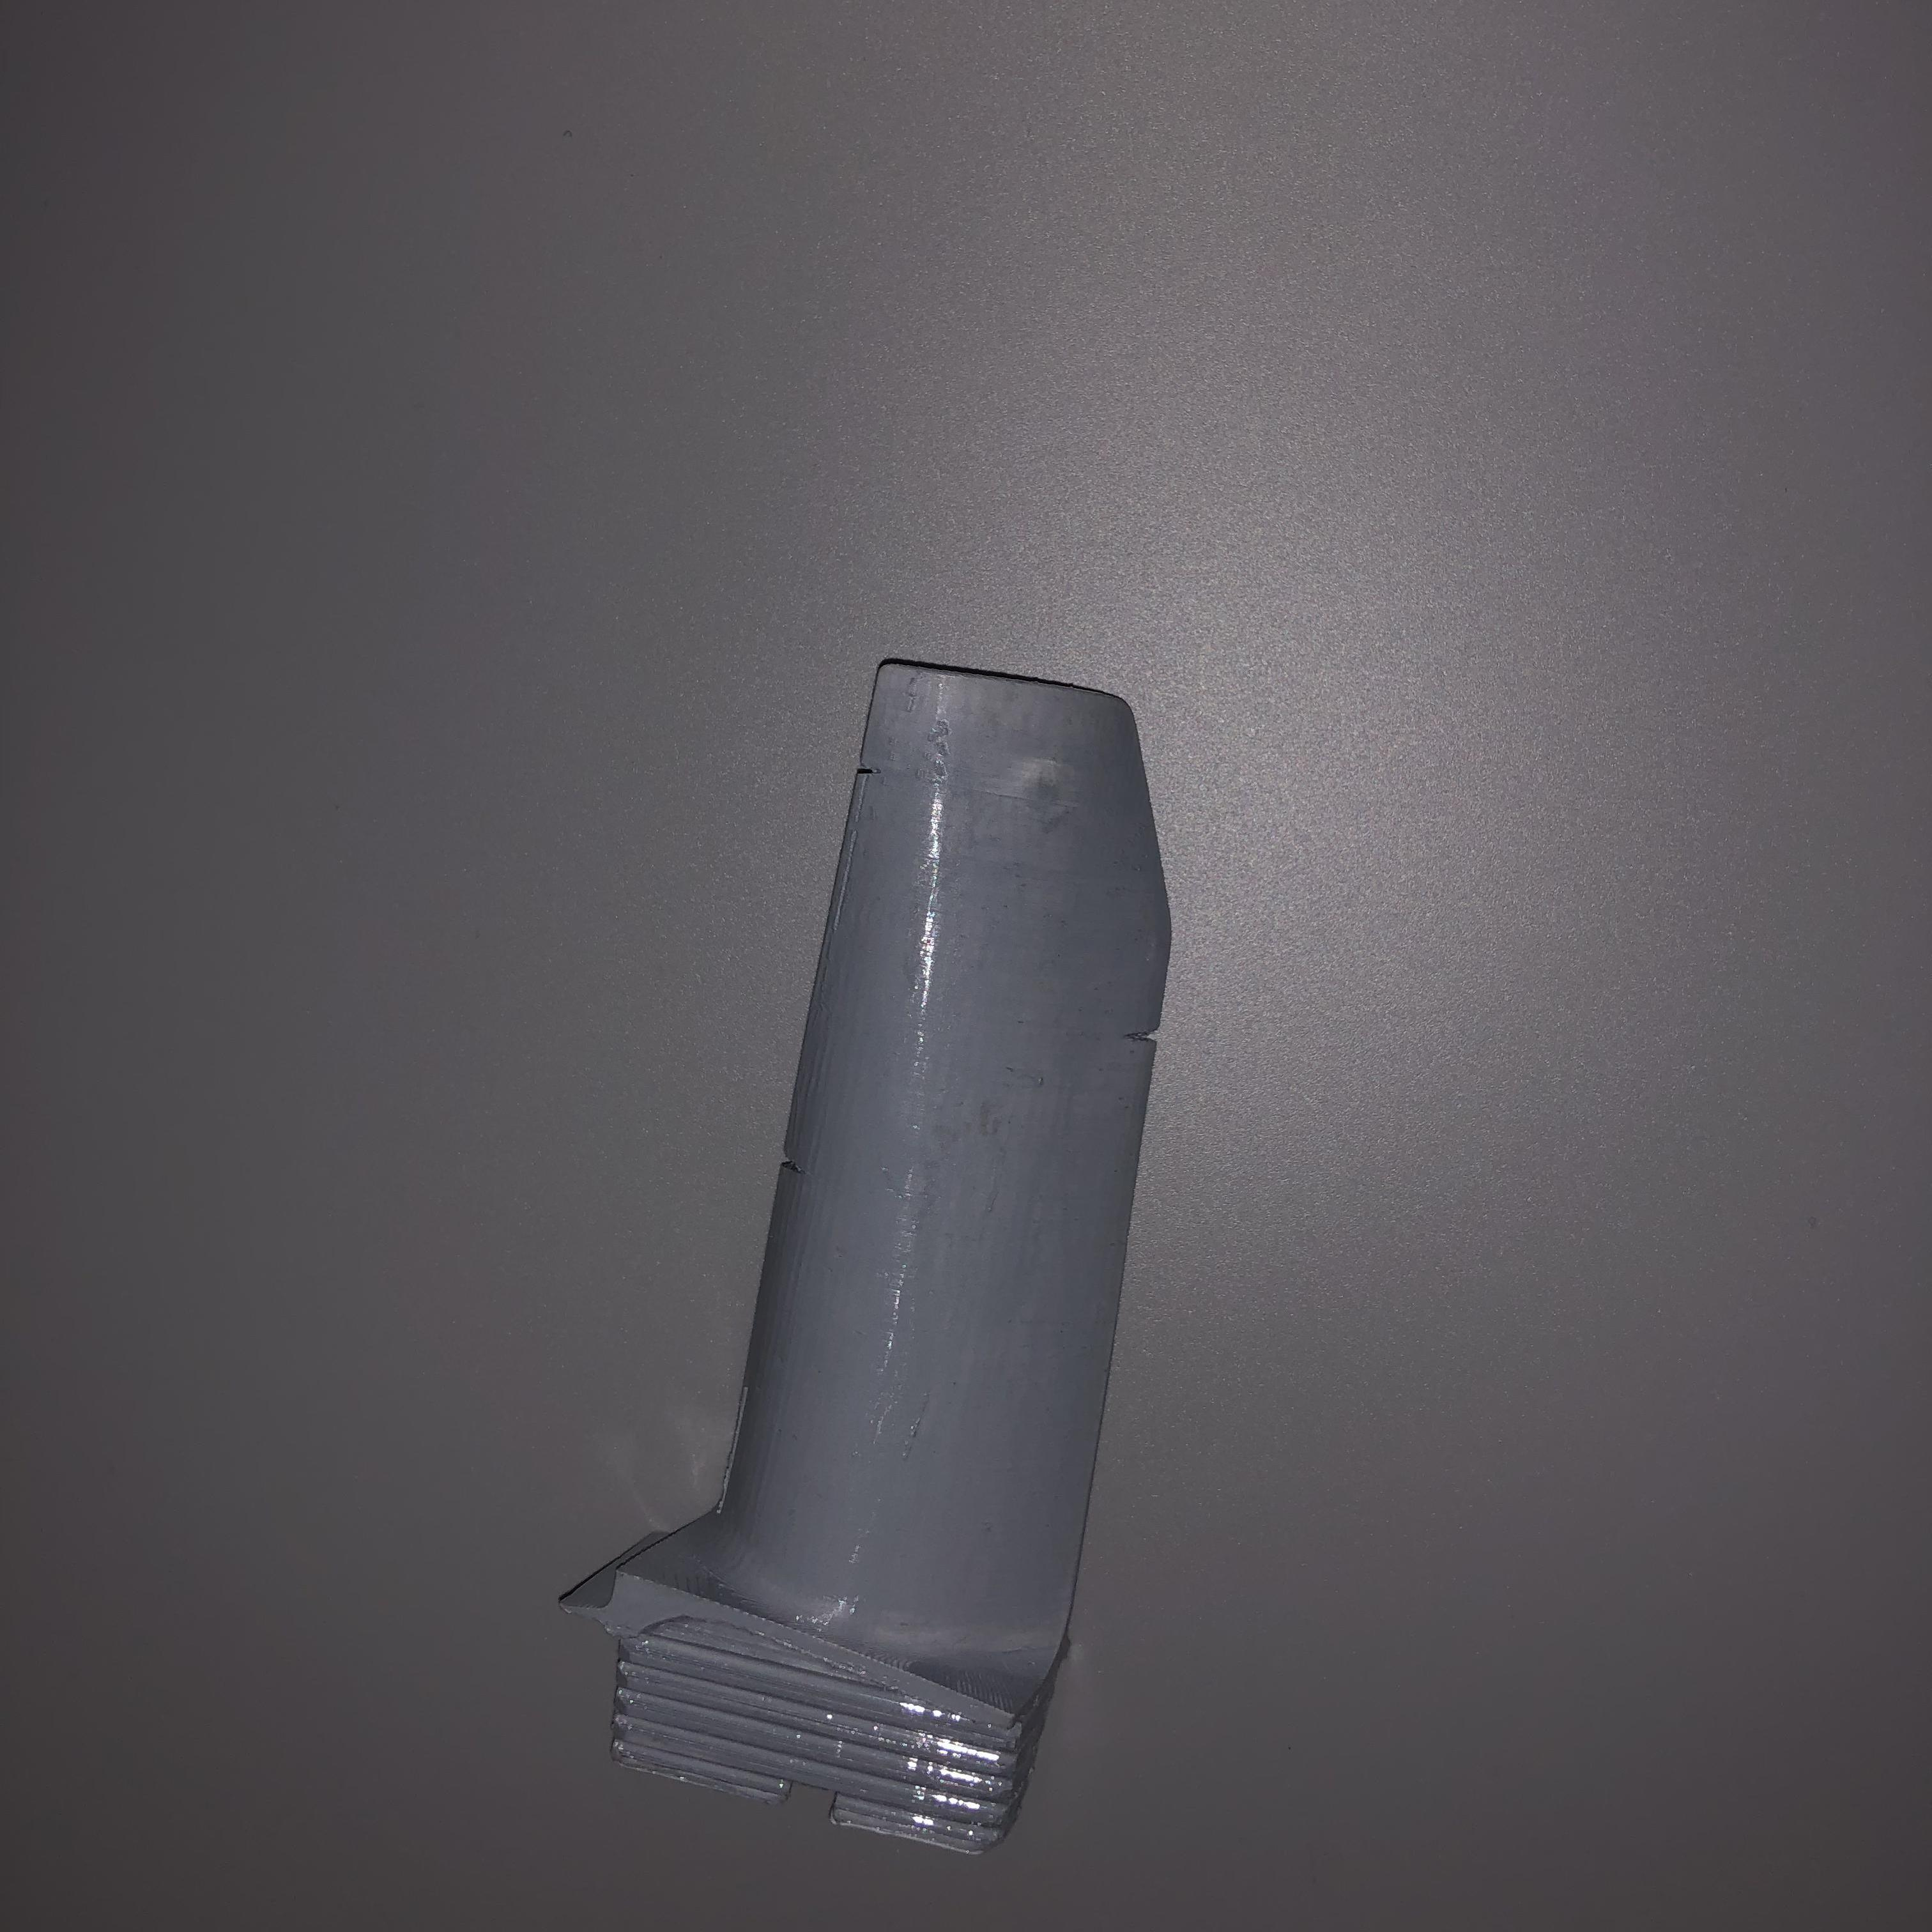groove: (1127, 1014, 1168, 1051), (775, 1145, 814, 1182), (853, 755, 886, 780)
